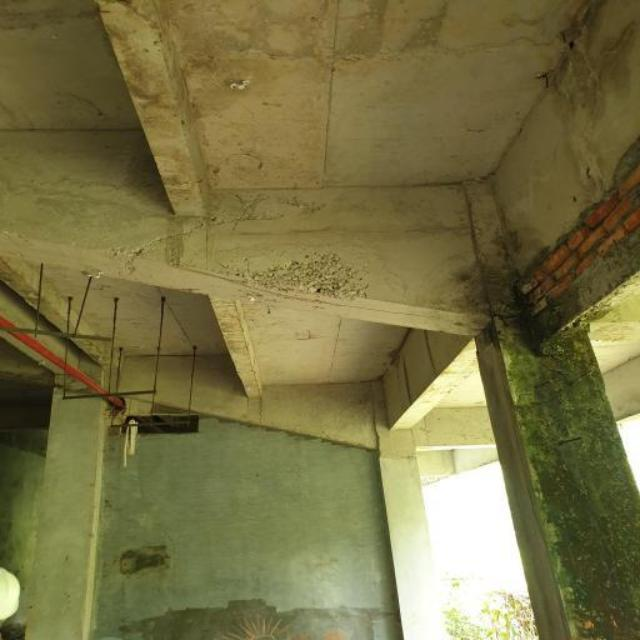D10: (218, 250, 367, 297)
